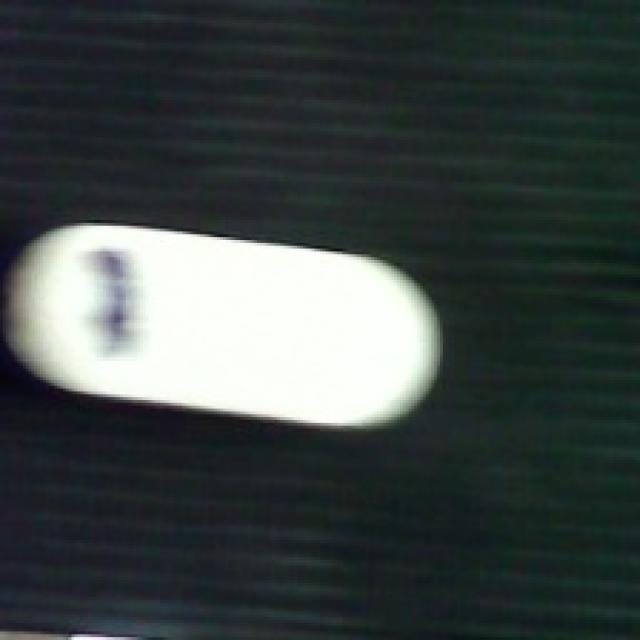defected: (0, 223, 443, 428)
